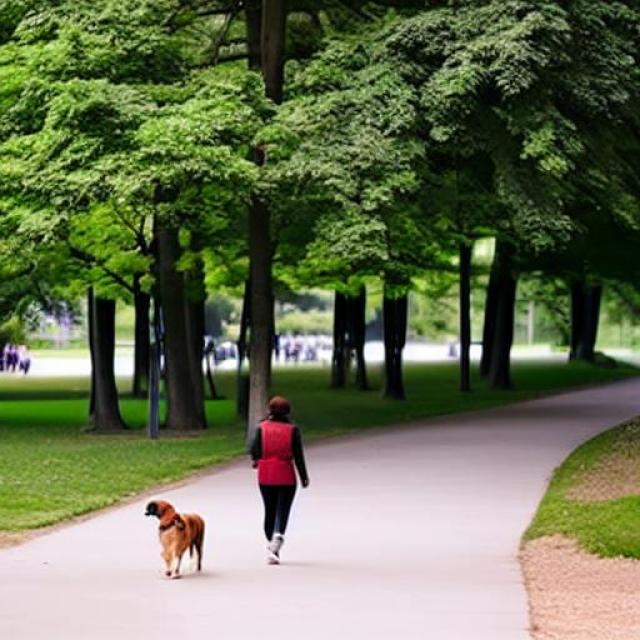Unleashed_Dog: (143, 466, 295, 578)
